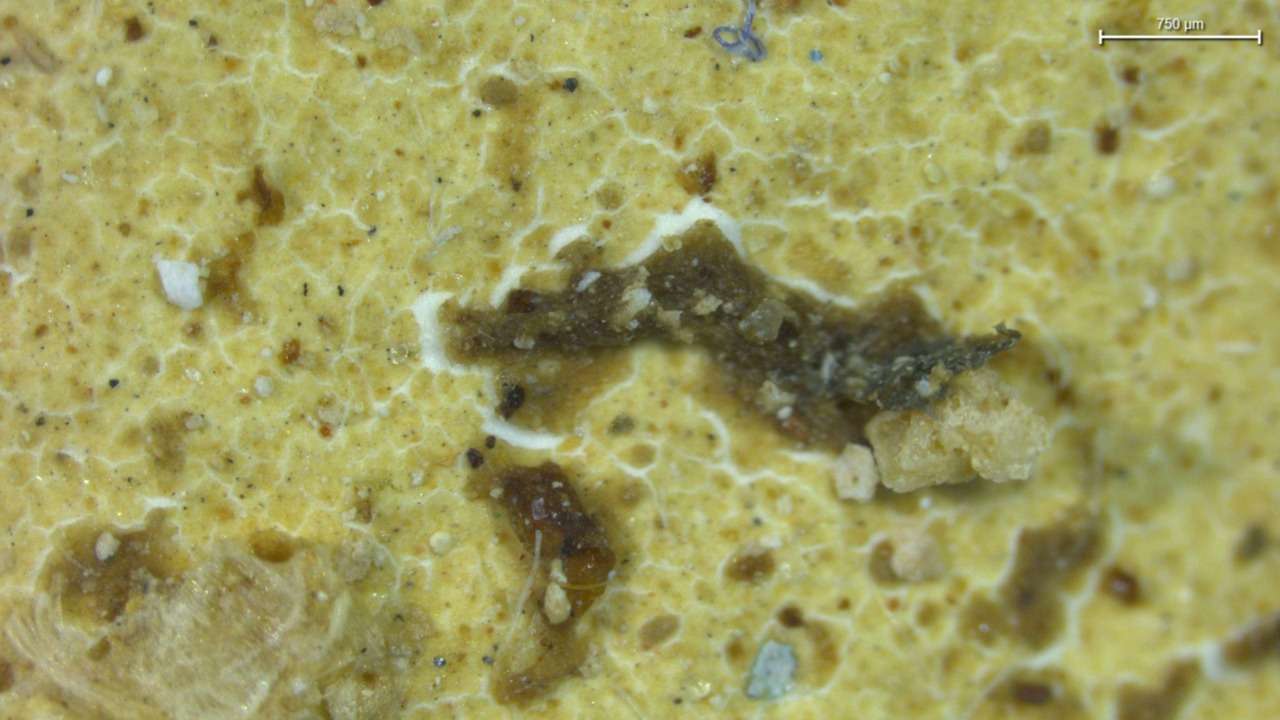microplastic_fragment: (867, 367, 1051, 492), (832, 444, 879, 502), (156, 259, 202, 309)
